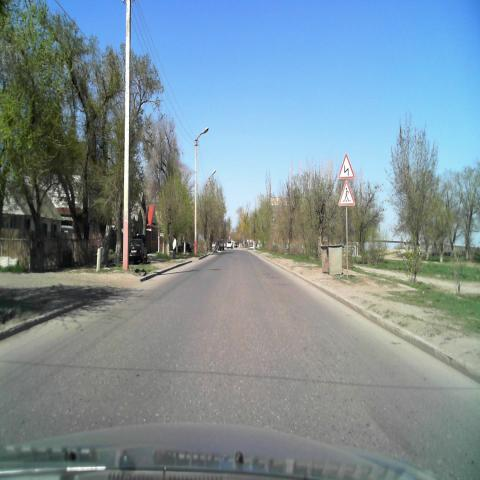1_12_2: (336, 152, 355, 180)
